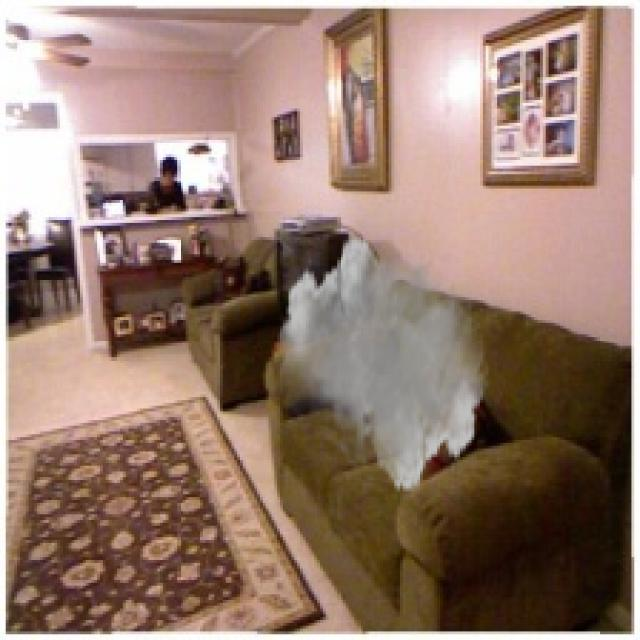smoke: (274, 235, 489, 494)
